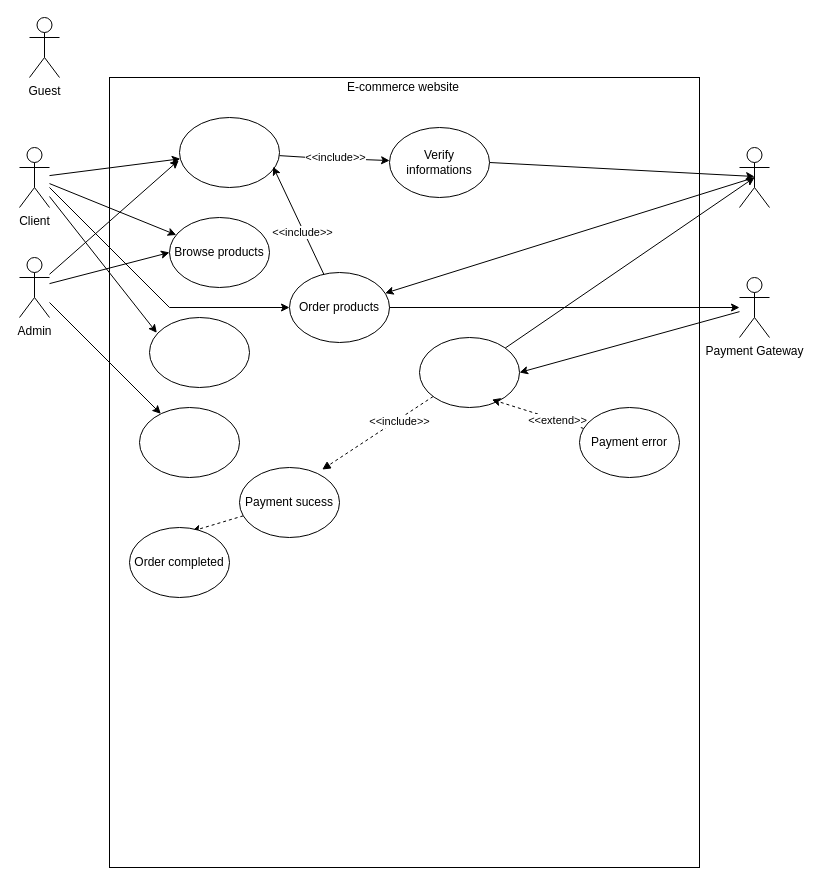
Image size: 820x885. Some labels were removed from this diagram. The centre of each missing label's shape, as x and y in pixels:
"Authentification" belongs at [229,152].
"Confirm Payment" belongs at [469,372].
"Database" belongs at [754,177].
"Edit profile" belongs at [199,352].
"Manage products / users / orders" belongs at [189,442].
